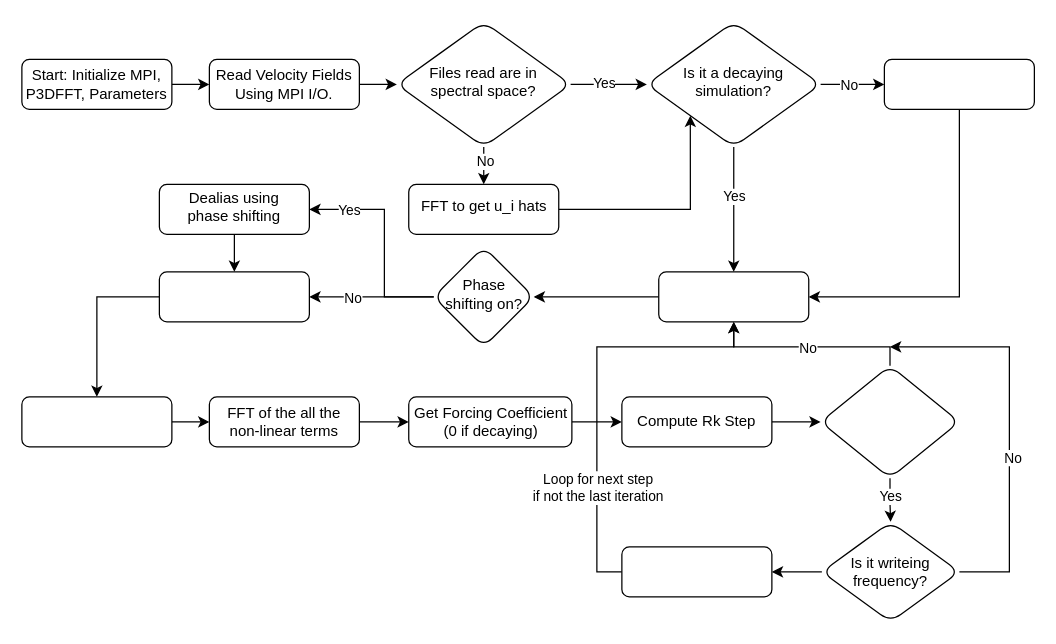
Some shapes in this 1056 by 644 pixel diagram are drawn without their labels. The shapes that lost their labels are listed below. From the top down, each one's centre as x and y in pixels, then its label:
At point 958,83: "Setup forcing".
At point 233,296: "FFT Inverse to get physical space u_i".
At point 733,296: "Dealias using Truncation".
At point 96,421: "Get ω × u from the dealiased fields".
At point 889,421: "Is it second substep?".
At point 696,571: "Write velocity fields and statistics.".
